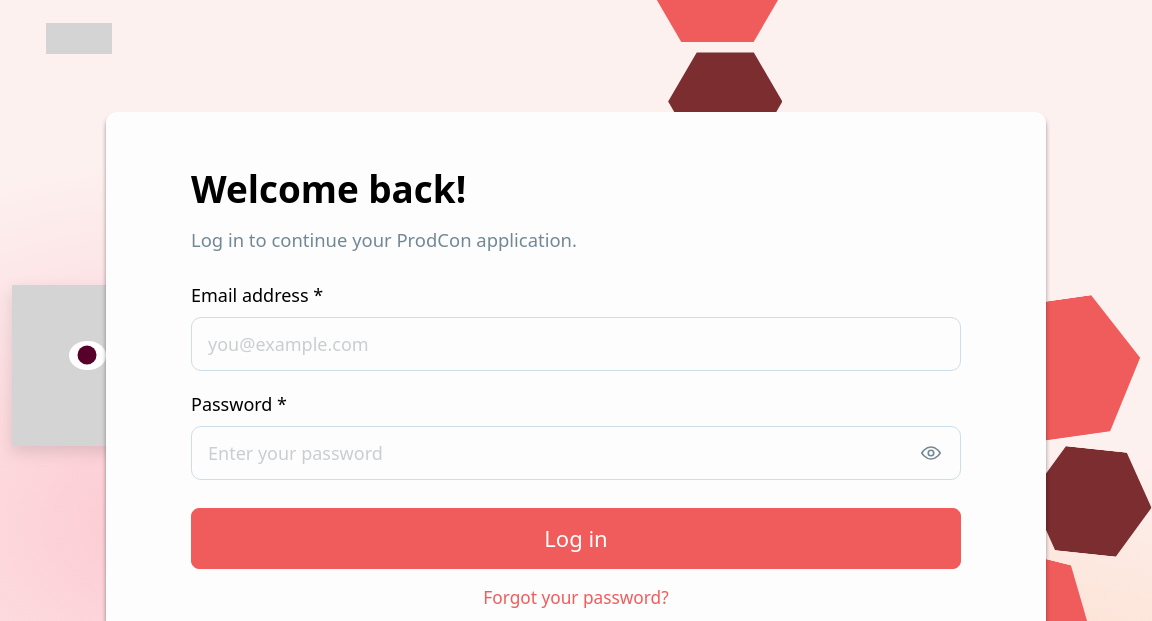
Test: Login page › handles rate-limiting feedback when resending confirmation
Type "applicant@example.com" into the field labelled "Email address *" at point(576, 344), box [191,317,961,371]
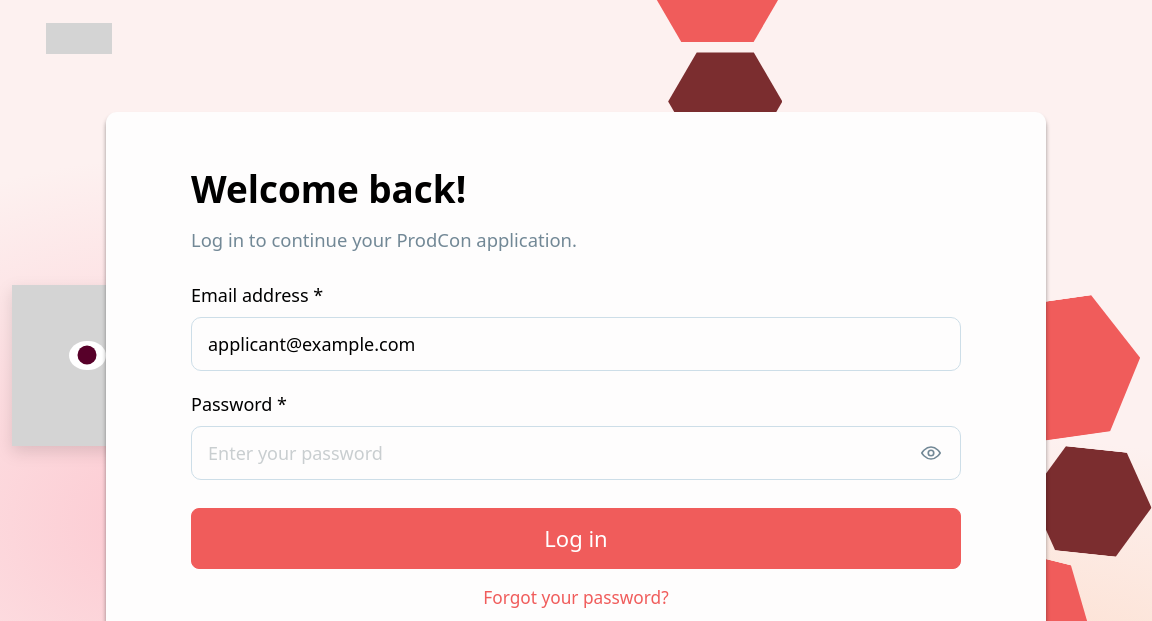
Type "secretPassword123" into the password field labelled "Password *" at point(576, 453), box [191,426,961,480]
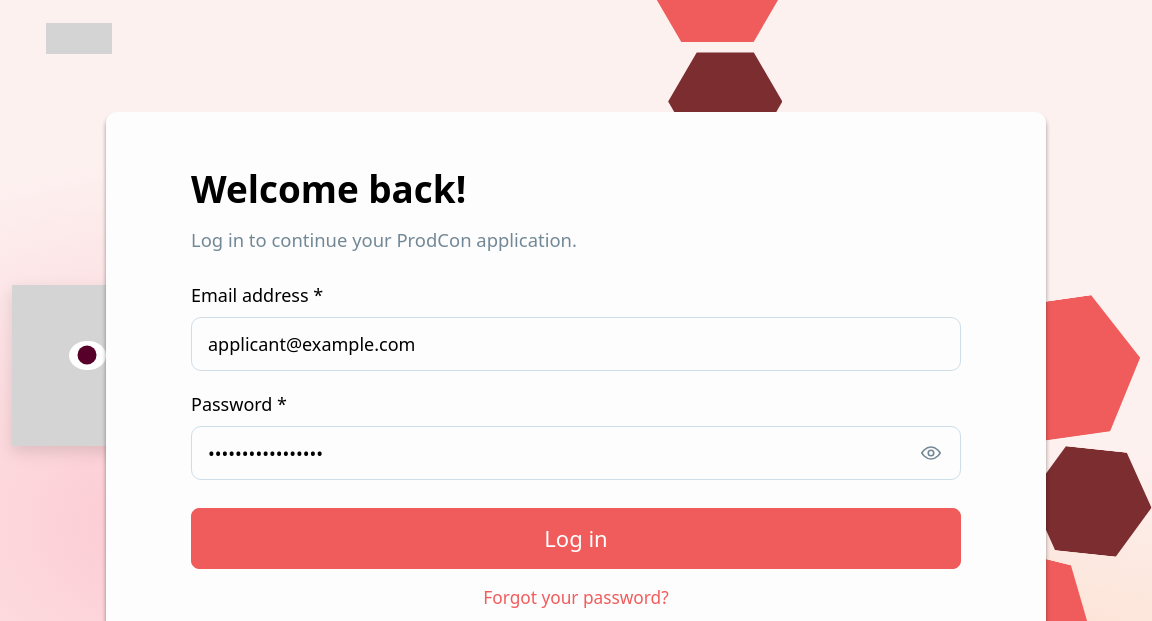
Click the button "Log in" at point(576, 539), box [191,508,961,569]
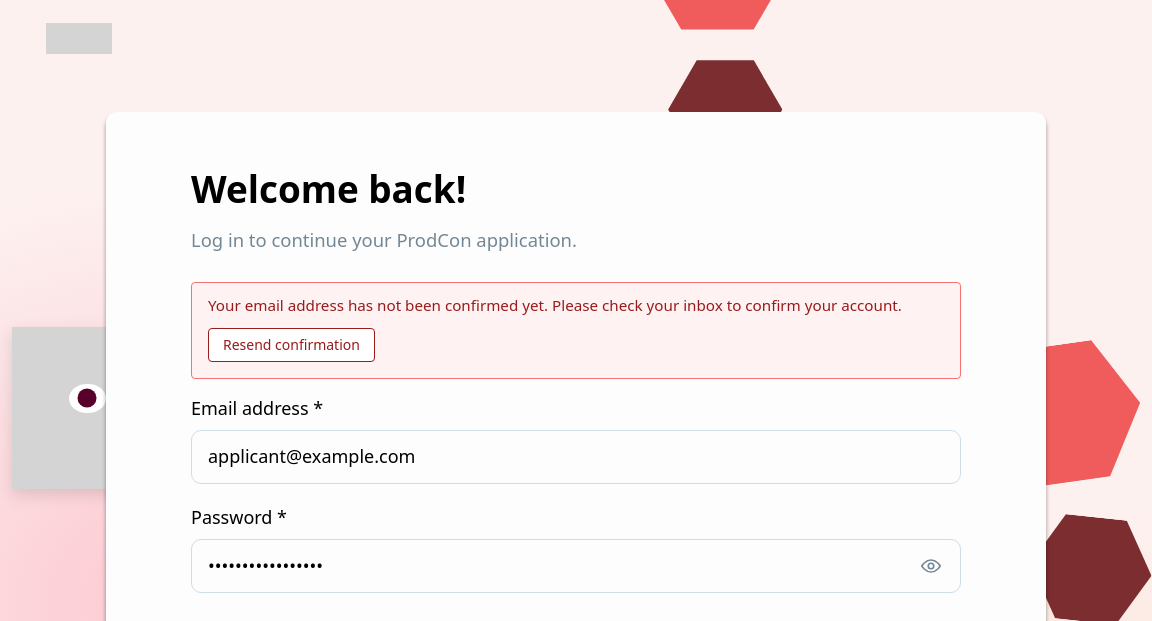
Click the button "Resend confirmation" at point(291, 345), box [208,328,375,362]
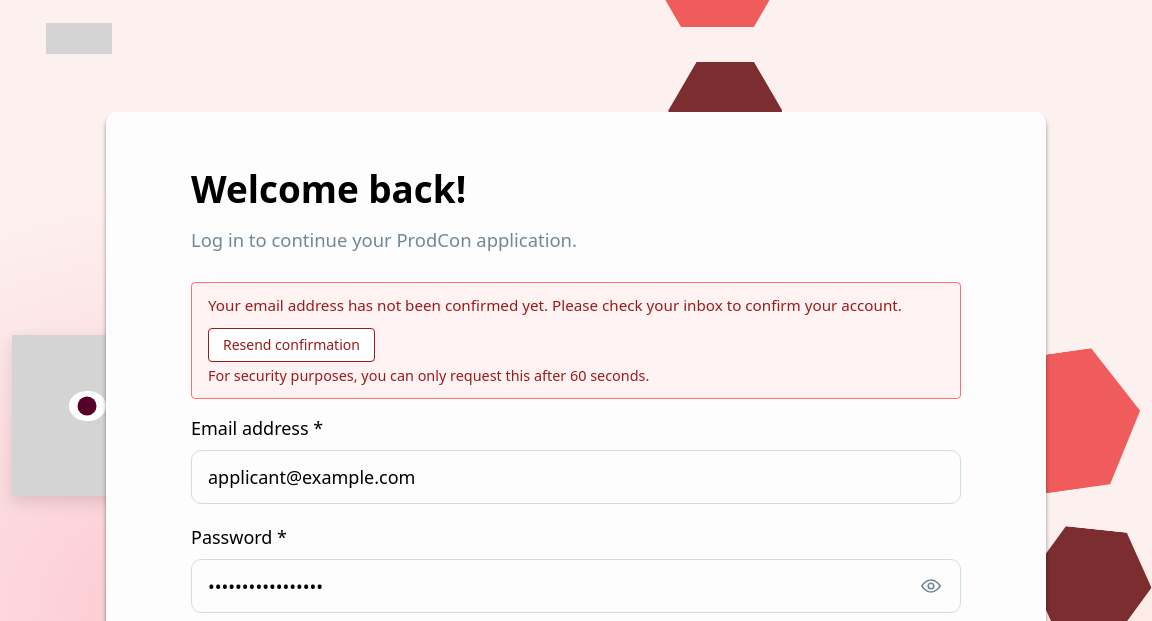
Now the text "For security purposes, you can only request this after 60 seconds." is shown, box [208,366,649,385]
